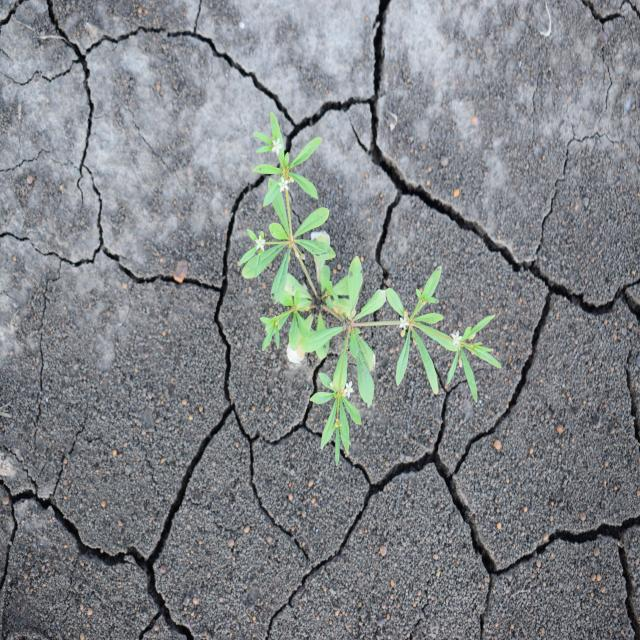Carpetweed: (236, 110, 504, 467)
